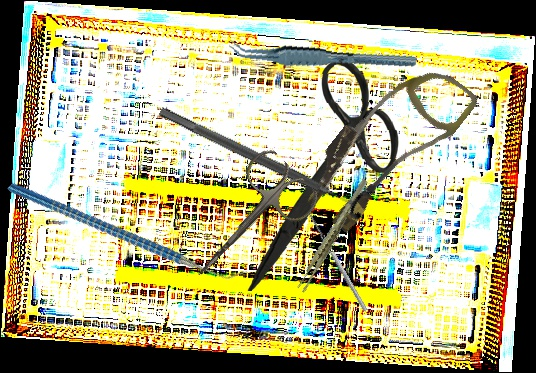Cannula: (293, 43, 481, 248)
Chopper: (7, 115, 248, 346)
Fixation Ring: (153, 94, 373, 223)
Iris Scissors: (238, 58, 405, 291), (168, 143, 325, 303)
Spatula Surgical: (299, 204, 368, 315)
Tissue Forceps: (279, 177, 387, 294), (227, 23, 418, 89)
